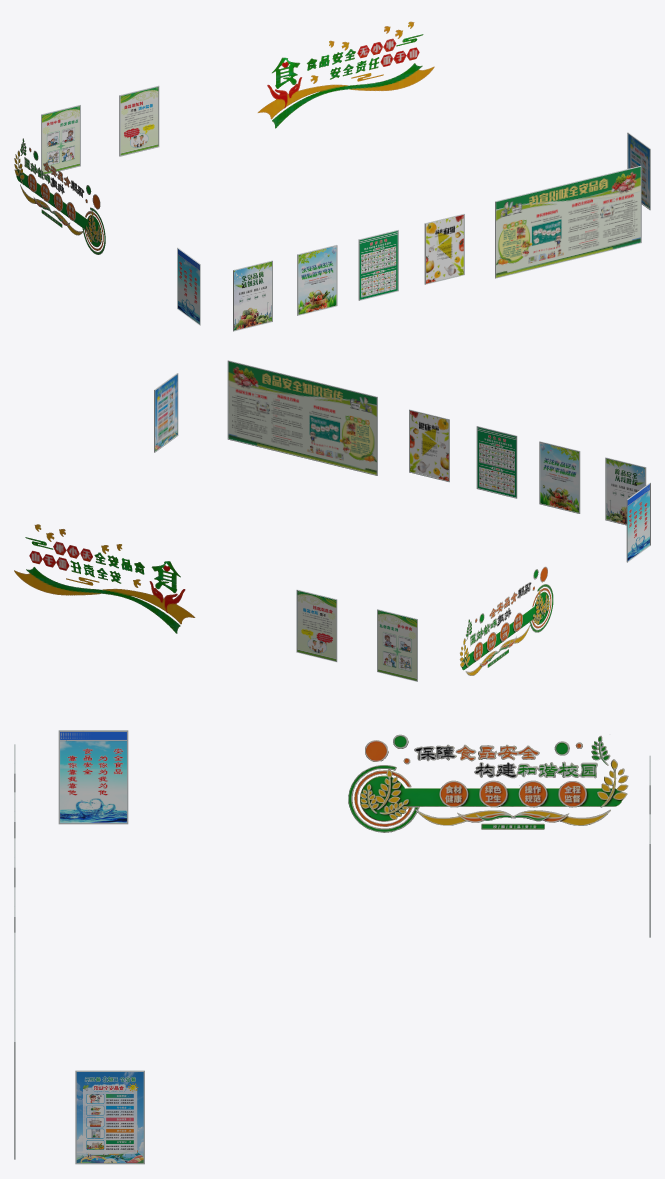
File: SM_咨询室_标牌.fbx
3 renders of one model, top to bottom at view 1: azimuth 30°, elevation 25°; view 2: azimuth 150°, elevation 25°; view 3: azimuth 270°, elevation 25°, orthographic. The views are drawn at different scales.
Parts seen in each view (by area): view 1: SM_咨询室_标牌; view 2: SM_咨询室_标牌; view 3: SM_咨询室_标牌.
Part boxes in pixels (x1,y1,x2,y2): SM_咨询室_标牌: [14, 21, 650, 331]; SM_咨询室_标牌: [14, 360, 650, 681]; SM_咨询室_标牌: [14, 730, 650, 1164].
Size of the model in its own units: 10229 by 1650 by 8072.
